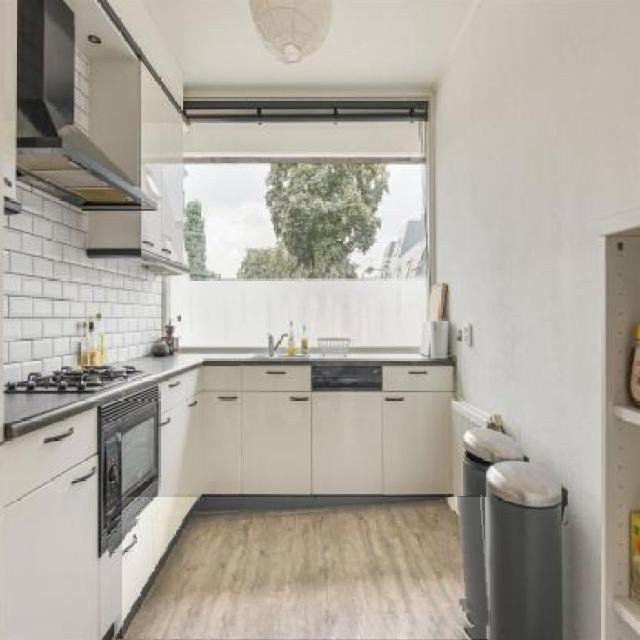floor: (123, 497, 490, 640)
